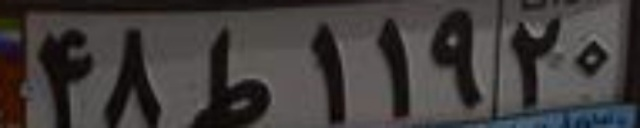0: (571, 39, 610, 77)
1: (306, 20, 350, 123), (374, 19, 410, 117)
2: (511, 16, 554, 108)
4: (35, 27, 95, 127)
8: (101, 27, 166, 127)
9: (430, 7, 482, 108)
taa: (188, 25, 270, 127)
